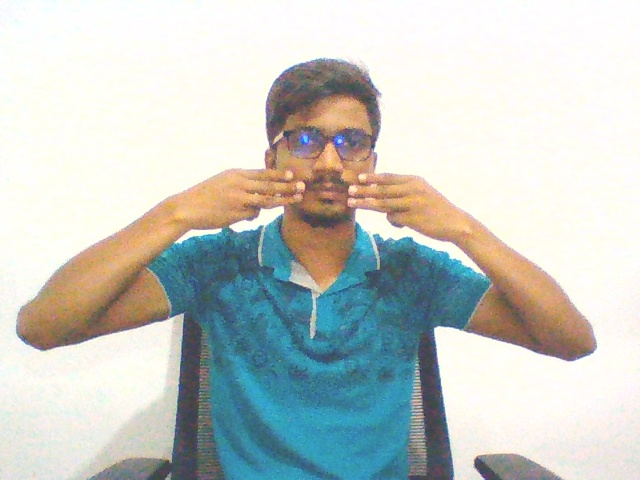cat: (152, 151, 488, 257)
